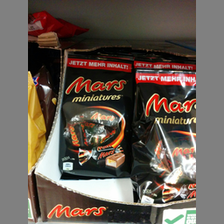chocolate: (59, 53, 136, 180), (130, 65, 196, 203)
